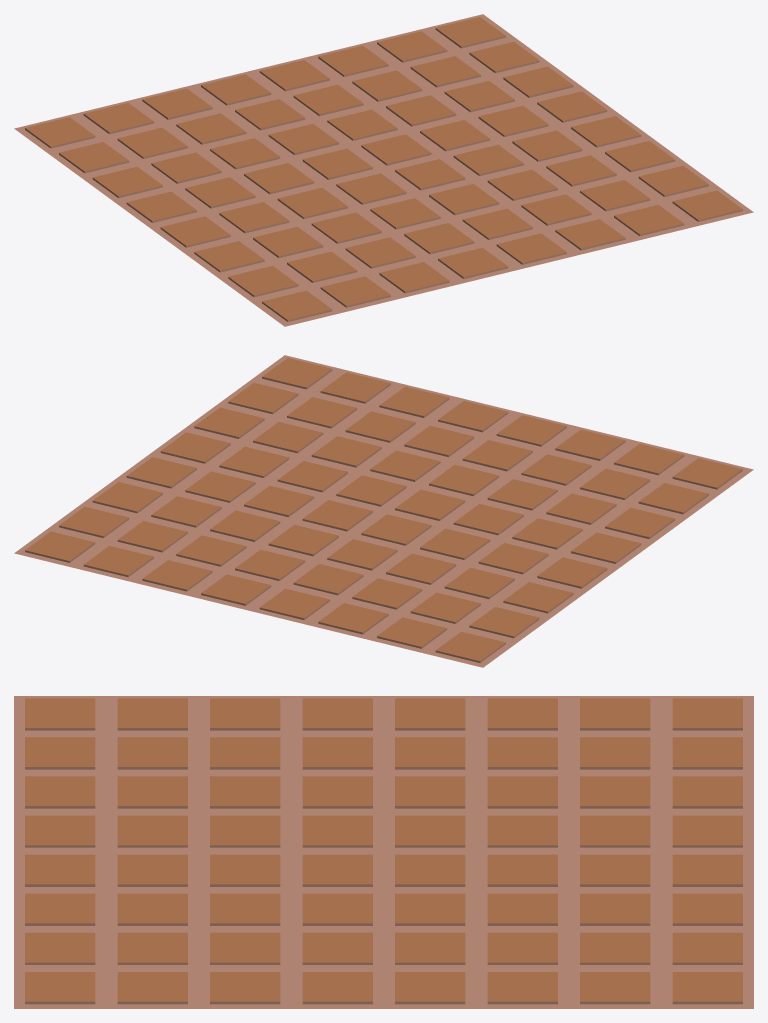
The model's file is warmGridFloor.glb.
3 views of the same model, one above another, from view 1: azimuth 30°, elevation 25°; view 2: azimuth 150°, elevation 25°; view 3: azimuth 270°, elevation 25° (orthographic). The views are drawn at different scales.
Visible parts, largest first — view 1: grid_floorCeiling_large; view 2: grid_floorCeiling_large; view 3: grid_floorCeiling_large.
Part boxes in pixels (x1=…): grid_floorCeiling_large: x1=14, y1=14, x2=753, y2=326; grid_floorCeiling_large: x1=14, y1=355, x2=753, y2=667; grid_floorCeiling_large: x1=14, y1=696, x2=753, y2=1008.
Size of what is drawn, in the model's own units: 4 by 0.0153 by 4.
1 material, 1 textured.
